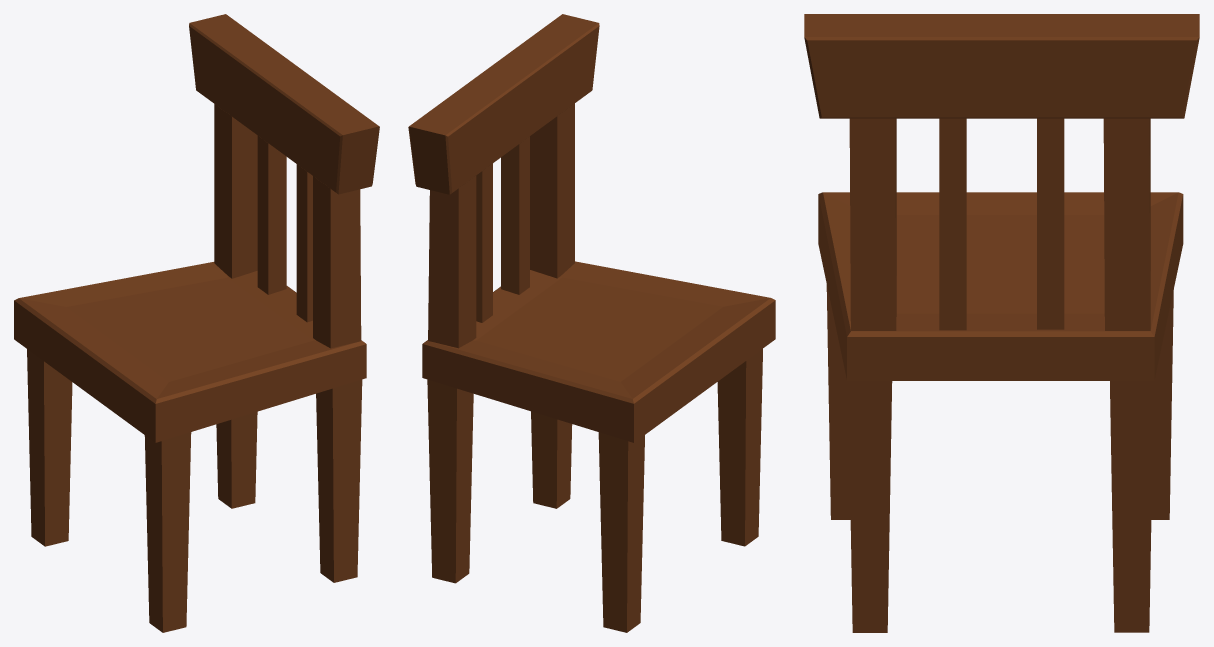
Rendered from Chair.fbx.
3 views of the same model, side by side, from view 1: azimuth 30°, elevation 25°; view 2: azimuth 150°, elevation 25°; view 3: azimuth 270°, elevation 25° (orthographic). The views are drawn at different scales.
Visible parts, largest first — view 1: Cube.8146; view 2: Cube.8146; view 3: Cube.8146.
Boxes of the visible parts, <box> form: Cube.8146: <box>14,14,379,632</box>; Cube.8146: <box>408,14,775,632</box>; Cube.8146: <box>804,14,1199,632</box>.
Bounding box in the file's own units: 65.96 × 132 × 78.86.
1 material, 1 textured.
